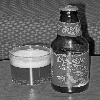beer: (53, 4, 92, 93)
